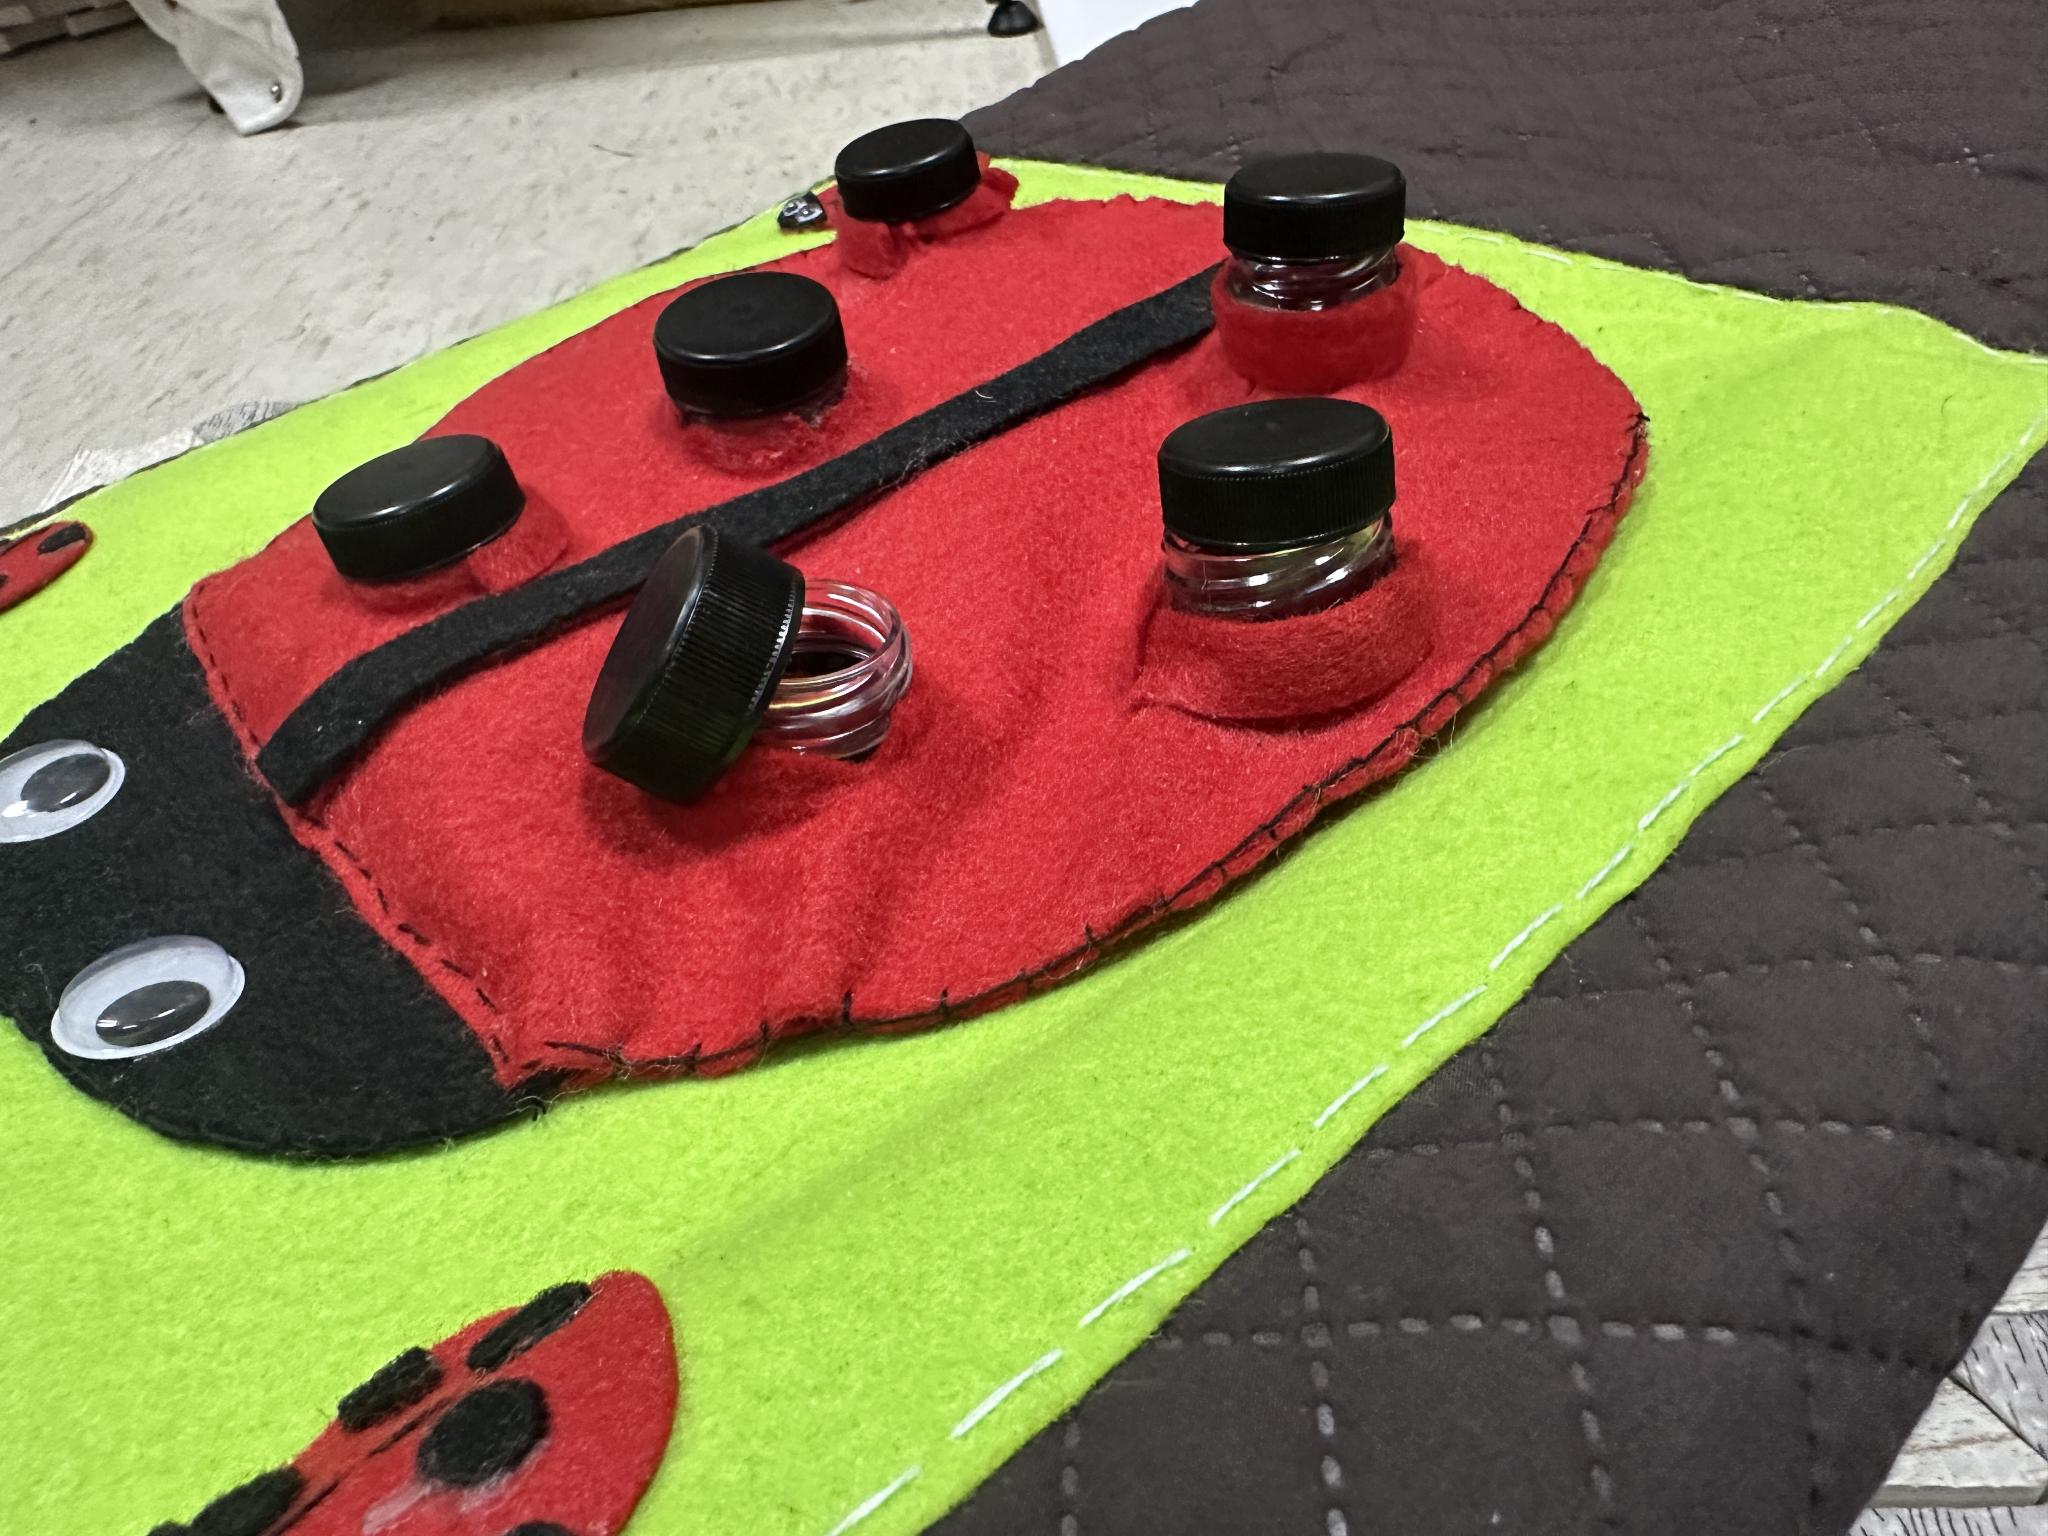cap_ng: (1113, 382, 1435, 741), (582, 502, 940, 820), (1206, 132, 1435, 408)
cap_ok: (295, 408, 571, 631), (635, 250, 884, 470), (821, 105, 1032, 273)
